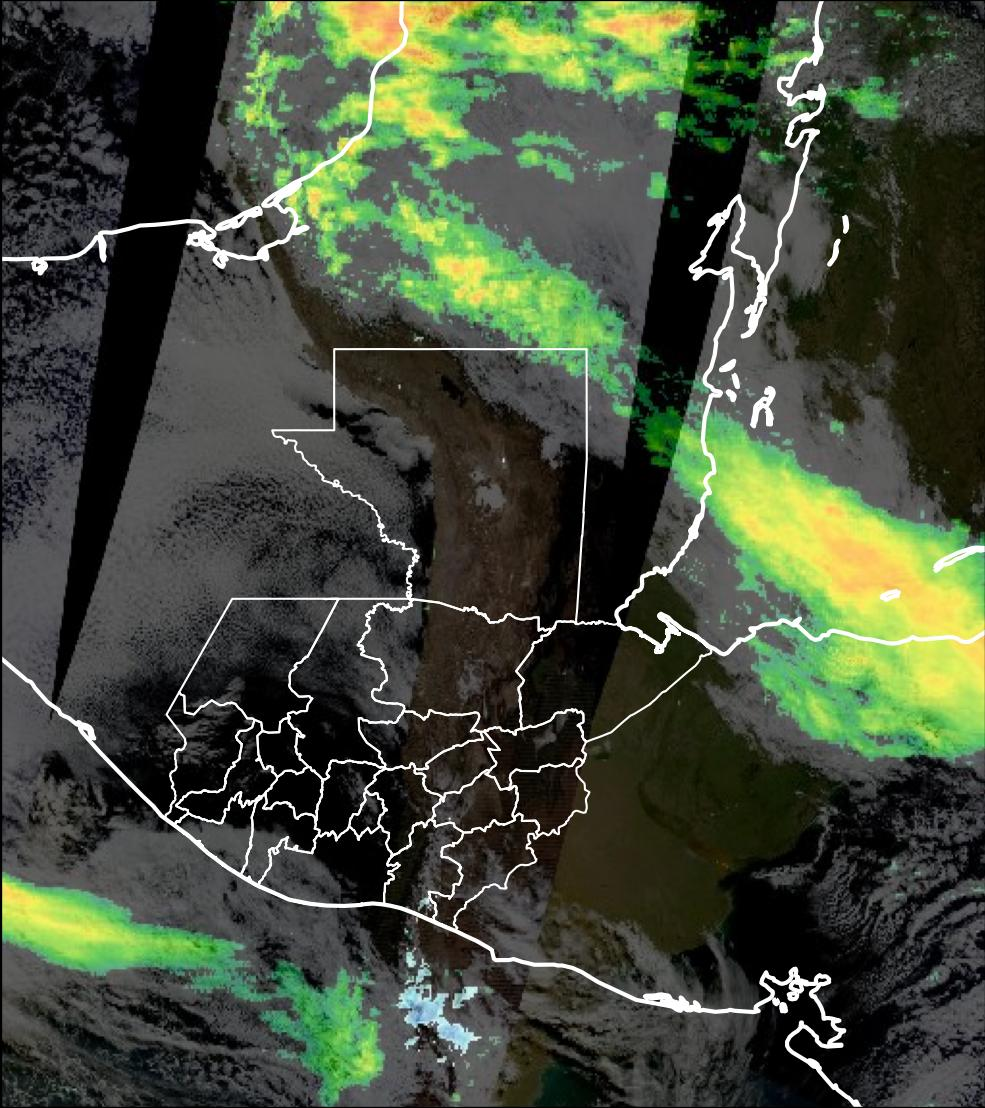precipitacion: (811, 522, 940, 627), (347, 1, 446, 73)
